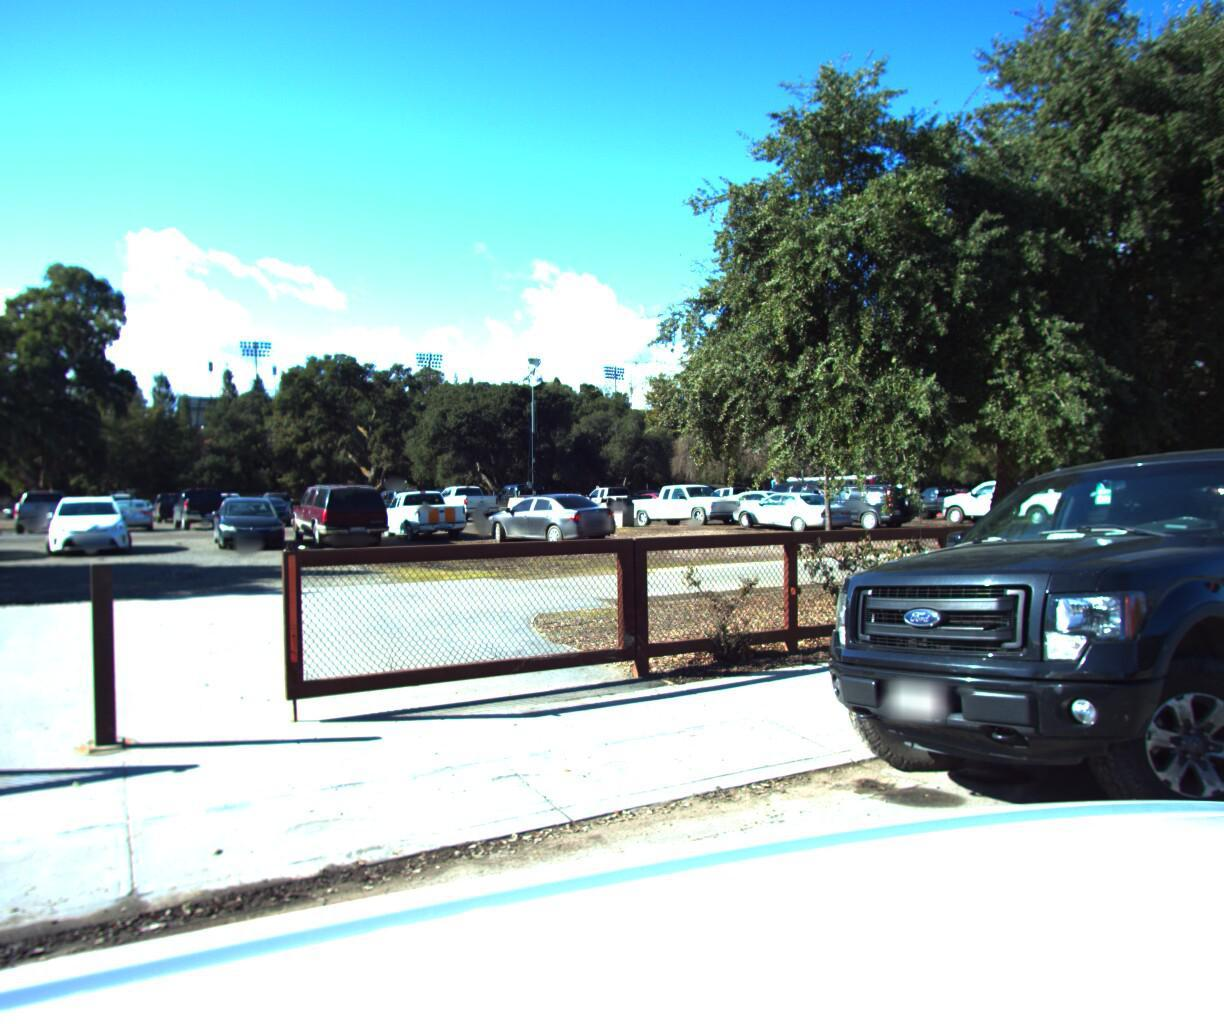car: (733, 429, 1224, 967)
